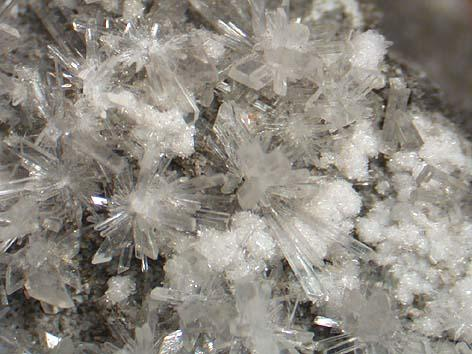gypsum: (0, 0, 424, 354)
